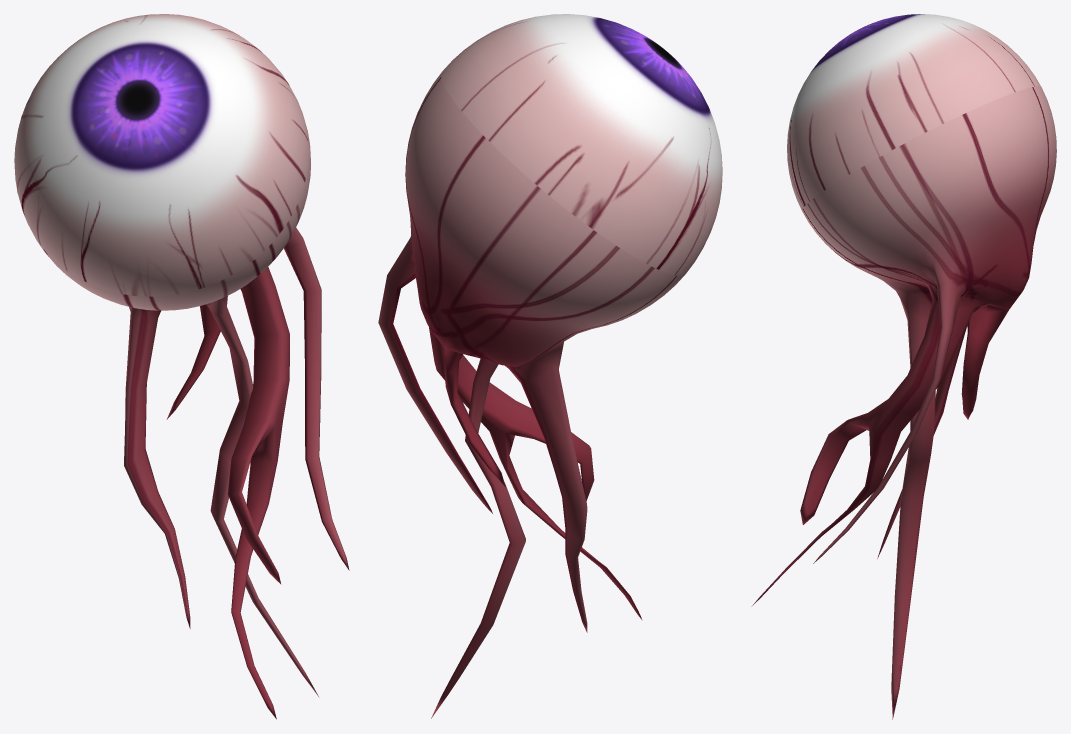
The model's file is testeye2.obj.
The picture shows the model from 3 angles, left to right: view 1: azimuth 30°, elevation 25°; view 2: azimuth 150°, elevation 25°; view 3: azimuth 270°, elevation 25°; orthographic projection. The views are drawn at different scales.
Visible parts, largest first — view 1: Sphere; view 2: Sphere; view 3: Sphere.
Part boxes in pixels (left/top/right/bottom): Sphere: left=14, top=14, right=349, bottom=719; Sphere: left=378, top=14, right=722, bottom=718; Sphere: left=751, top=14, right=1056, bottom=719.
Size of the model in its own units: 2.27 by 5.11 by 2.25.
